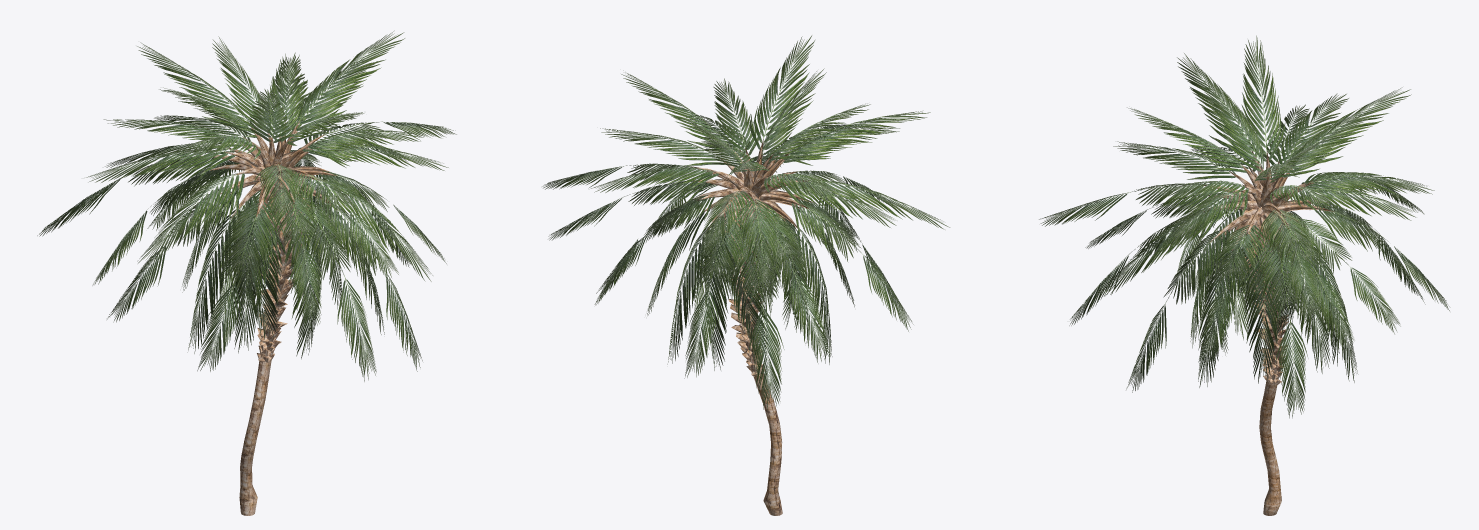
File: palm_tree_01_ee2492d6.glb
3 views of the same model, side by side, from view 1: azimuth 30°, elevation 25°; view 2: azimuth 150°, elevation 25°; view 3: azimuth 270°, elevation 25° (orthographic). The views are drawn at different scales.
Parts seen in each view (by area): view 1: palm_tree_01_ee2492d6; view 2: palm_tree_01_ee2492d6; view 3: palm_tree_01_ee2492d6.
Boxes of the visible parts, x1,y1,x2,y2 form: palm_tree_01_ee2492d6: (37, 30, 456, 515); palm_tree_01_ee2492d6: (542, 35, 950, 515); palm_tree_01_ee2492d6: (1039, 35, 1450, 515).
Bounding box in the file's own units: 6.94 × 7.16 × 6.62.
2 materials, 2 textured.
